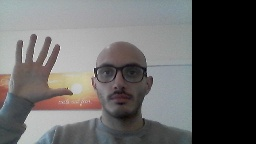Mano_aperta: (6, 31, 75, 107)
